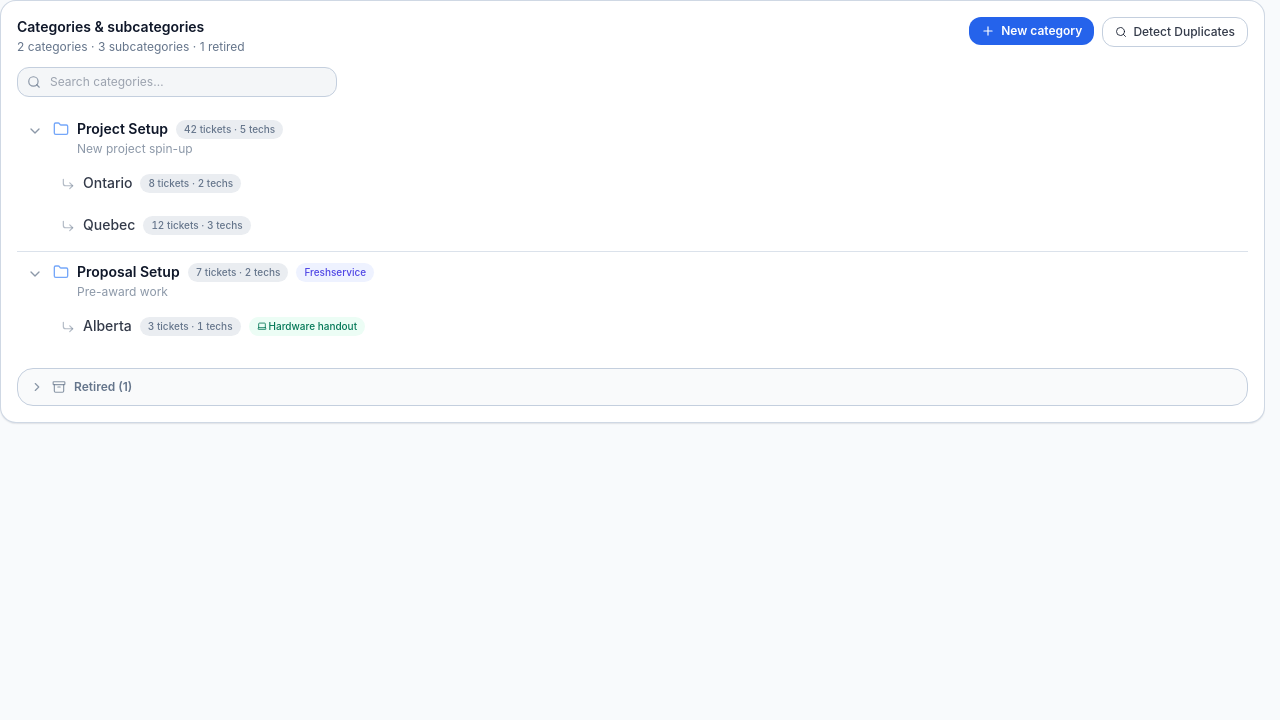
Test case: CategoriesManagementTab (tree overhaul) › create conflict renders the friendly error inline in the add row and keeps it open
Check: the text "Project Setup" is shown, box 77,119 -> 168,139
Click the button "New category" at (1032, 31), box 969,17 -> 1094,45
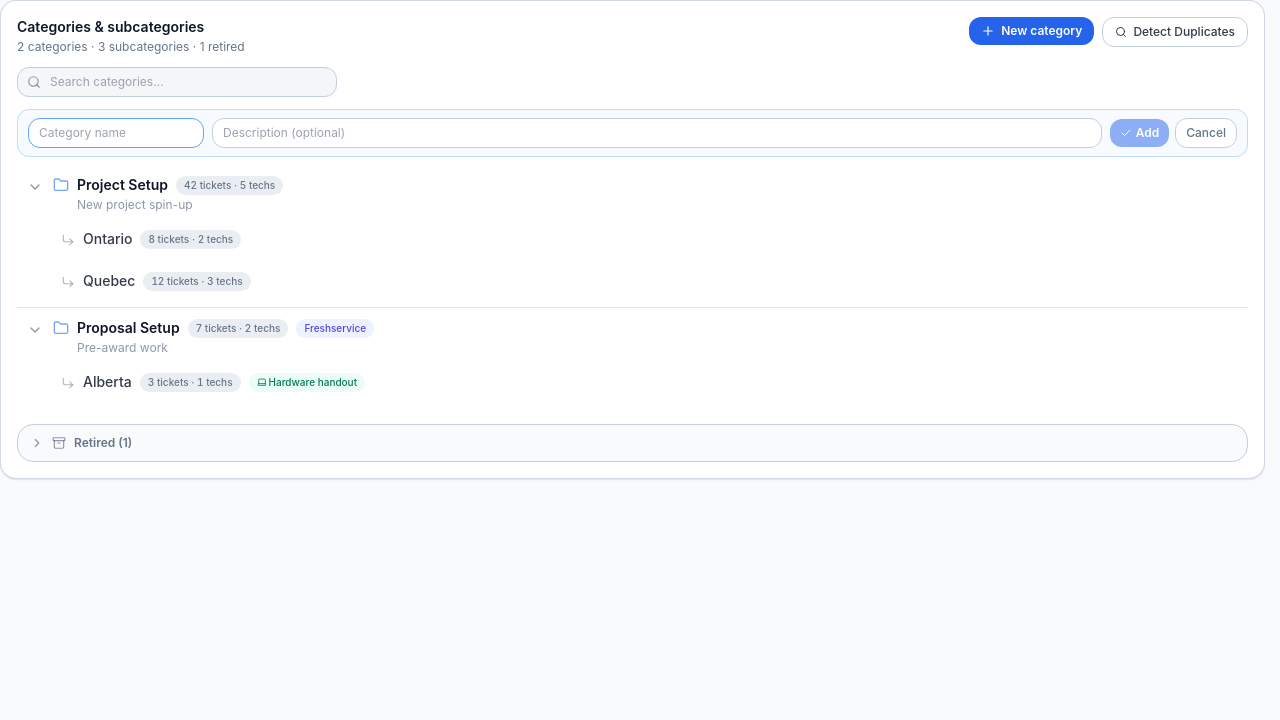
Type "Project Setup" into the field named "New category name" at (116, 133), box 28,118 -> 204,148
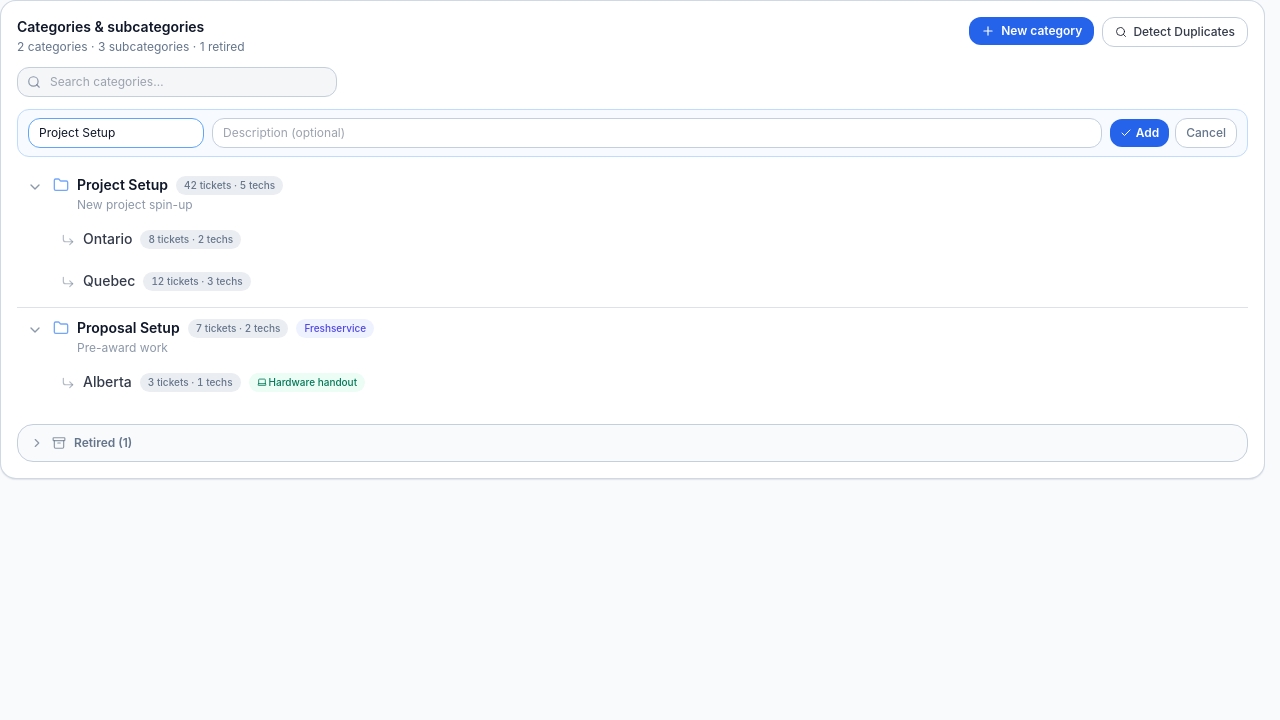
Press Enter in the field named "New category name", box 28,118 -> 204,148
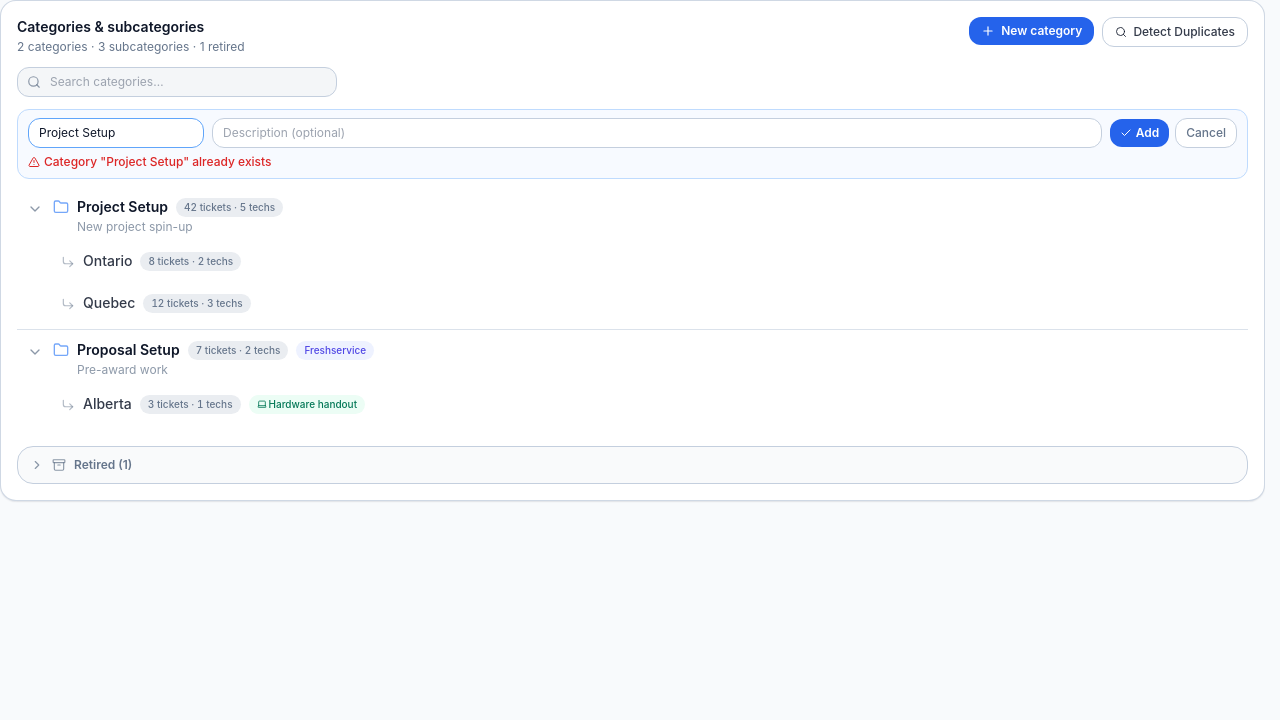
Check: the message reads "Category \"Project Setup\" already exists", box 44,154 -> 272,169
Typing again clears the error
Replace the text in the field named "New category name" with "Project Setup II" at (116, 133), box 28,118 -> 204,148
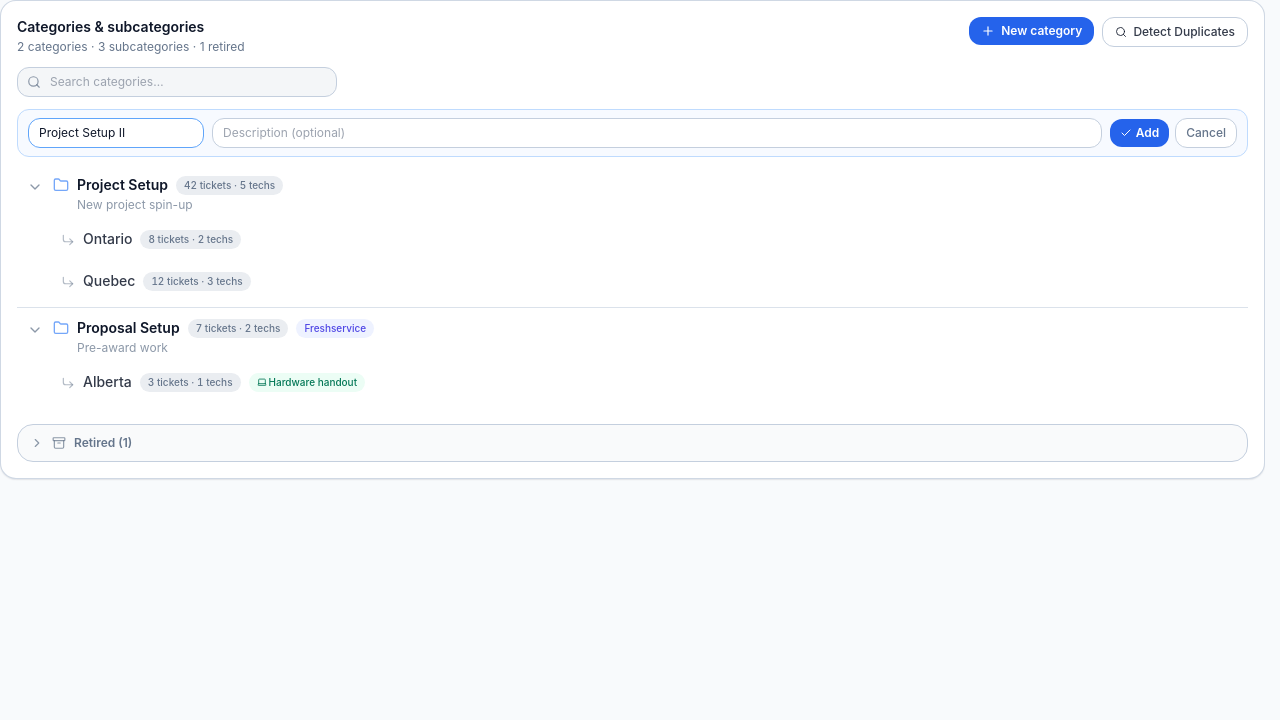
Check: the message "Category \"Project Setup\" already exists" is gone
